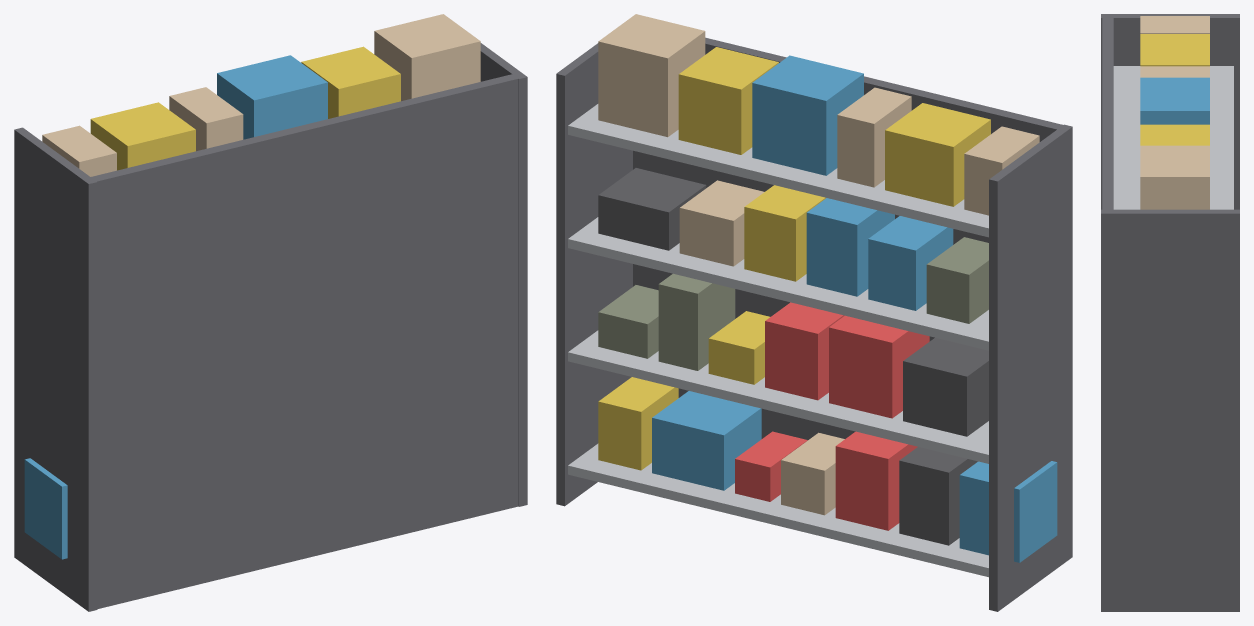
The model's file is ShopShelf.fbx.
3 renders of one model, left to right at view 1: azimuth 30°, elevation 25°; view 2: azimuth 150°, elevation 25°; view 3: azimuth 270°, elevation 25°, orthographic. The views are drawn at different scales.
Parts seen in each view (by area): view 1: ShopShelf_Mesh; view 2: ShopShelf_Mesh; view 3: ShopShelf_Mesh.
Boxes of the visible parts, x1,y1,x2,y2 form: ShopShelf_Mesh: (14, 14, 527, 611); ShopShelf_Mesh: (556, 14, 1072, 611); ShopShelf_Mesh: (1101, 14, 1239, 611).
Bounding box in the file's own units: 2.07 × 0.6 × 2.02.
